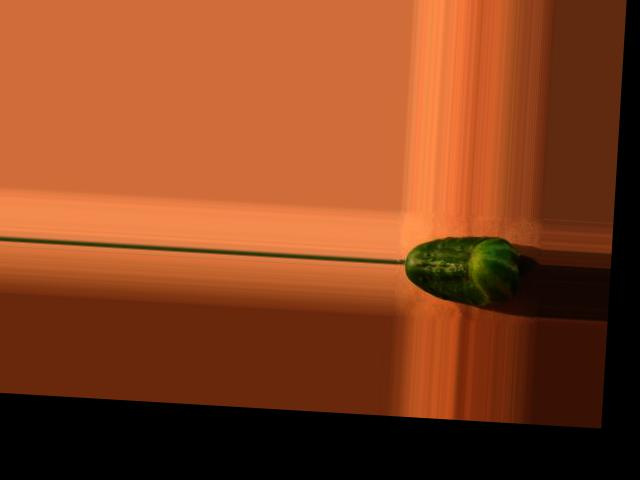cucumber: (402, 231, 520, 307)
